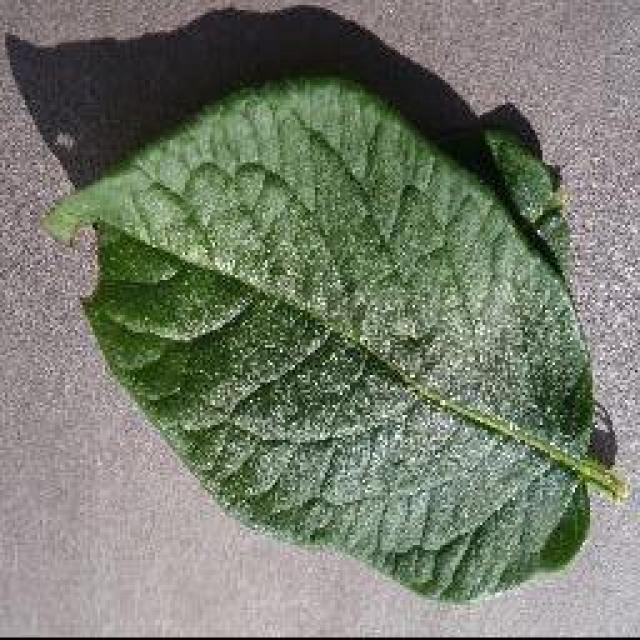Potato___healthy: (38, 71, 631, 608)
